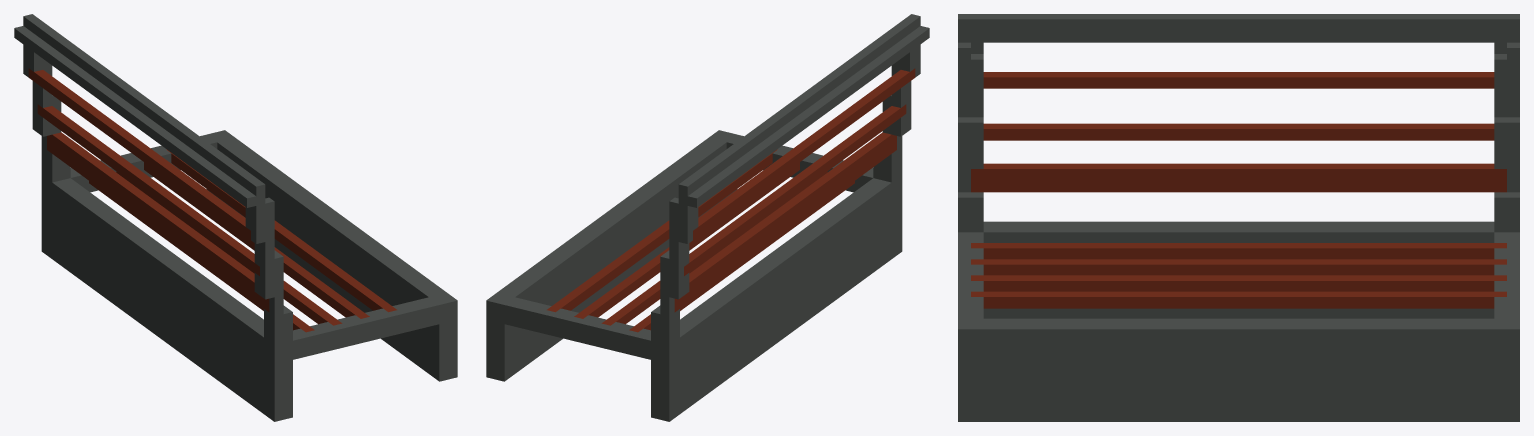
The model's file is abandoned_pickup_bench_frame.glb.
3 views of the same model, side by side, from view 1: azimuth 30°, elevation 25°; view 2: azimuth 150°, elevation 25°; view 3: azimuth 270°, elevation 25° (orthographic). The views are drawn at different scales.
Parts seen in each view (by area): view 1: body:compound; view 2: body:compound; view 3: body:compound.
Part boxes in pixels (x1,y1,x2,y2): body:compound: [14, 14, 457, 421]; body:compound: [486, 14, 929, 421]; body:compound: [958, 14, 1519, 421].
Bounding box in the file's own units: 0.7188 × 0.7812 × 1.38.
